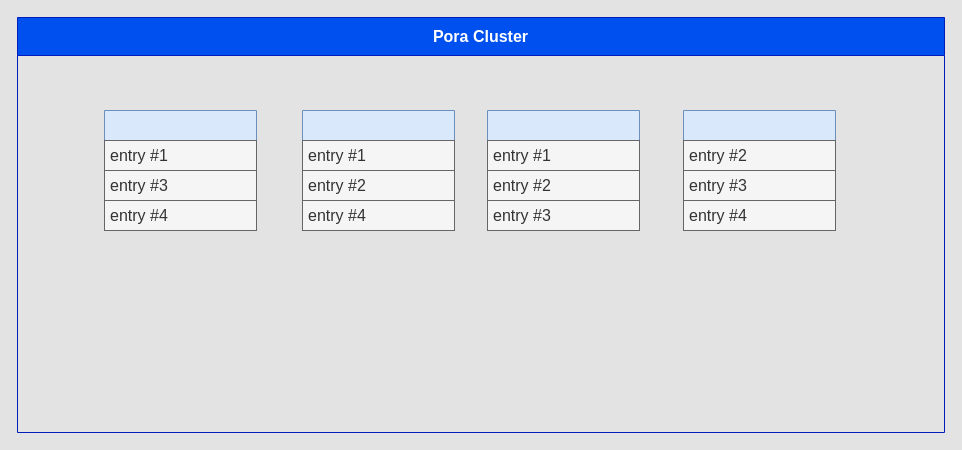
Some shapes in this 962 by 450 pixel diagram are drawn without their labels. Here are the shapes that lost their labels. From the top down, the box of each, then its label:
(104, 110, 256, 230): Pora#1
(302, 110, 454, 230): Pora#2
(486, 110, 640, 230): Pora#3
(682, 110, 836, 230): Pora#4
